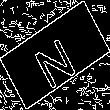N_NW: (29, 23, 81, 87)
